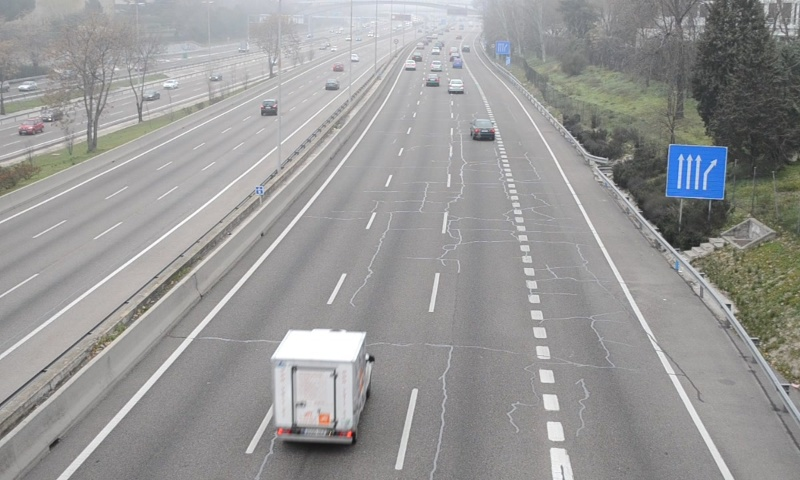car: (469, 117, 495, 141)
small-truck: (270, 330, 371, 443)
